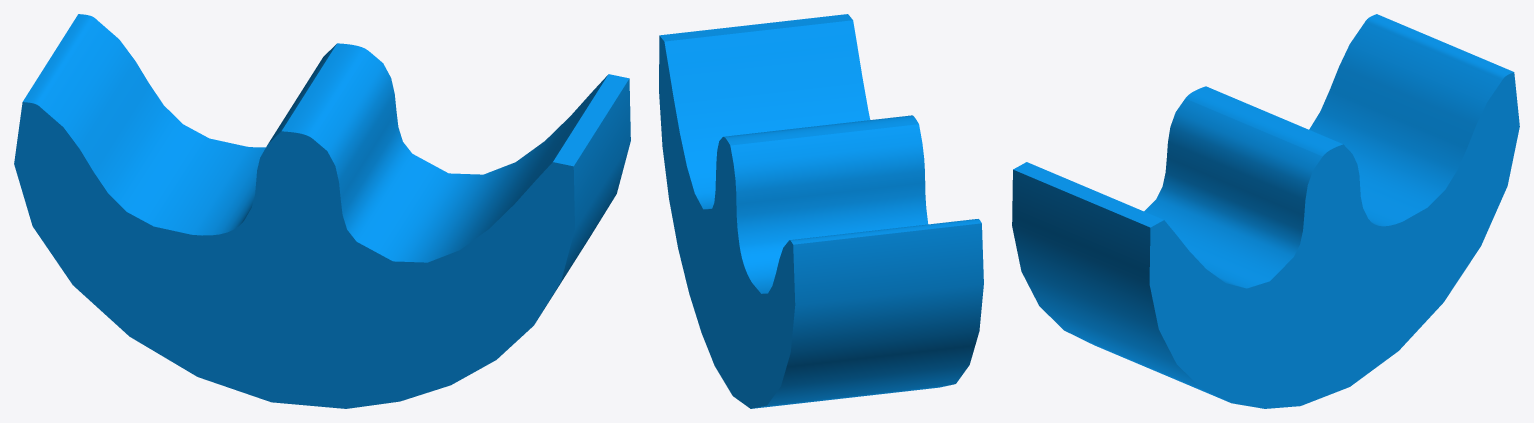
File: 005-Spoon2.FBX
3 renders of one model, left to right at view 1: azimuth 30°, elevation 25°; view 2: azimuth 150°, elevation 25°; view 3: azimuth 270°, elevation 25°, orthographic. The views are drawn at different scales.
Parts seen in each view (by area): view 1: 005-Spoon2; view 2: 005-Spoon2; view 3: 005-Spoon2.
Boxes of the visible parts, <box> form: 005-Spoon2: <box>14,14,630,408</box>; 005-Spoon2: <box>659,14,983,408</box>; 005-Spoon2: <box>1012,14,1519,408</box>.
Size of the model in its own units: 49.99 by 26.69 by 49.99.
